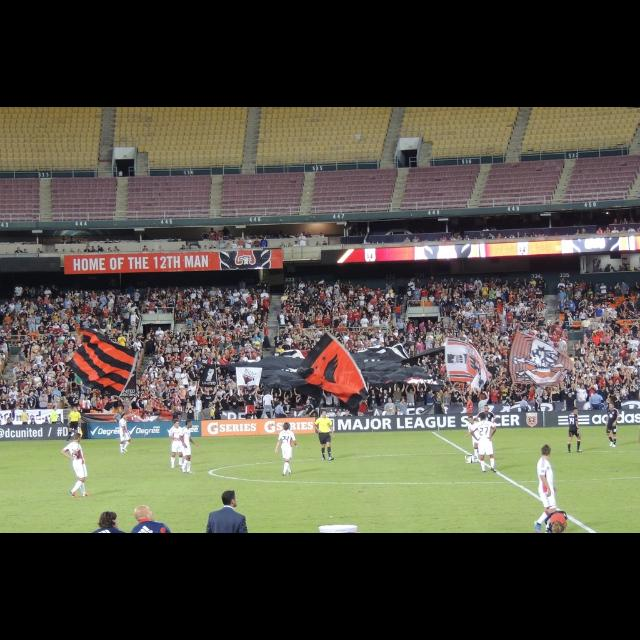Football: (466, 455, 472, 463)
